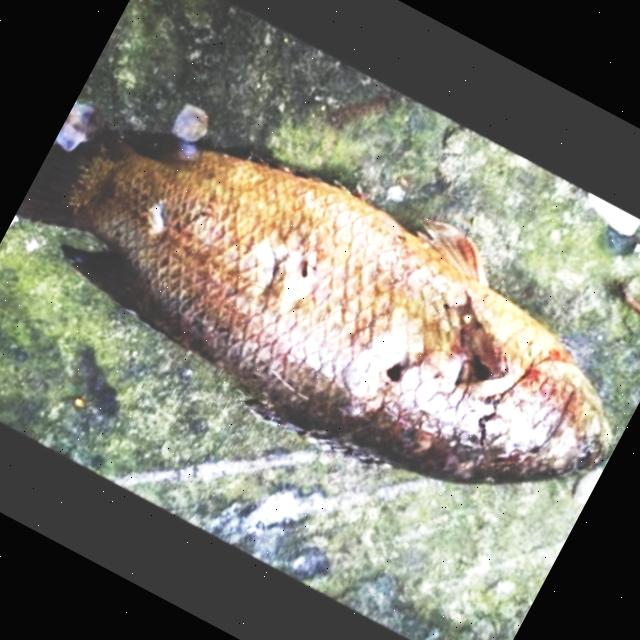Columnaris Disease: (14, 129, 611, 481)
